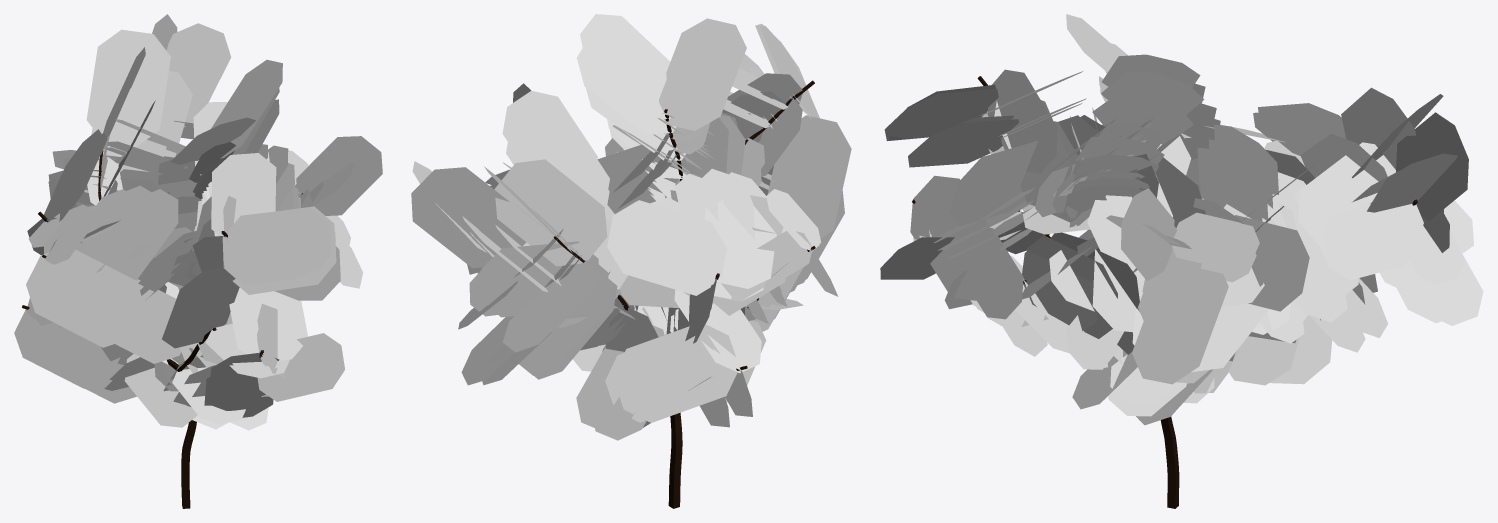
File: ArbolPNG_test_02.fbx
3 views of the same model, side by side, from view 1: azimuth 30°, elevation 25°; view 2: azimuth 150°, elevation 25°; view 3: azimuth 270°, elevation 25° (orthographic). The views are drawn at different scales.
Visible parts, largest first — view 1: Plane.001; view 2: Plane.001; view 3: Plane.001.
Part boxes in pixels (bbox=[...]): Plane.001: bbox=[14, 14, 382, 508]; Plane.001: bbox=[411, 14, 851, 508]; Plane.001: bbox=[880, 14, 1483, 508].
Bounding box in the file's own units: 459 × 573 × 626.
